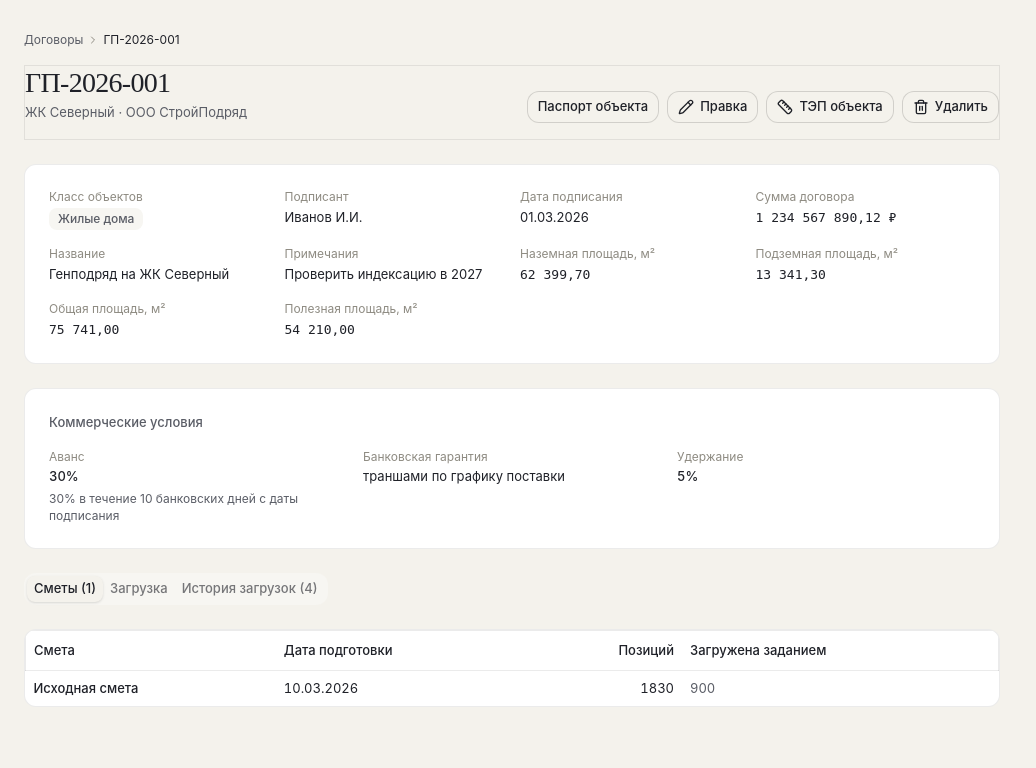
История загрузок: аудит не должен врать (разбор внешнего ревью) › «вытеснена заменой» стоит только у задания, которое смету создавало
This screenshot has width=1036, height=768.
Expected: the heading "ГП-2026-001" is shown, left=25, top=67, right=170, bottom=98
Click the tab "История загрузок (4)": (250, 589) left=175, top=576, right=325, bottom=602
(page scrolled)
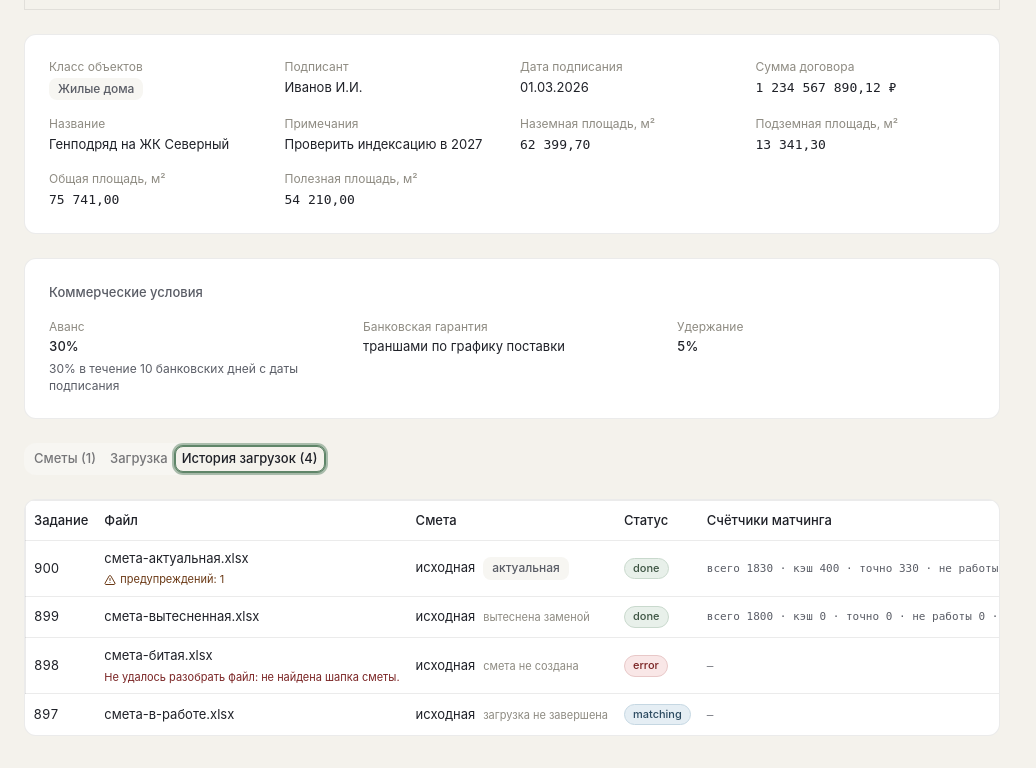
Now the text "смета-актуальная.xlsx" is shown, box left=104, top=550, right=249, bottom=566
Now the text "вытеснена заменой" is shown, box left=483, top=610, right=590, bottom=624
Now the text "смета не создана" is shown, box left=483, top=659, right=579, bottom=673
